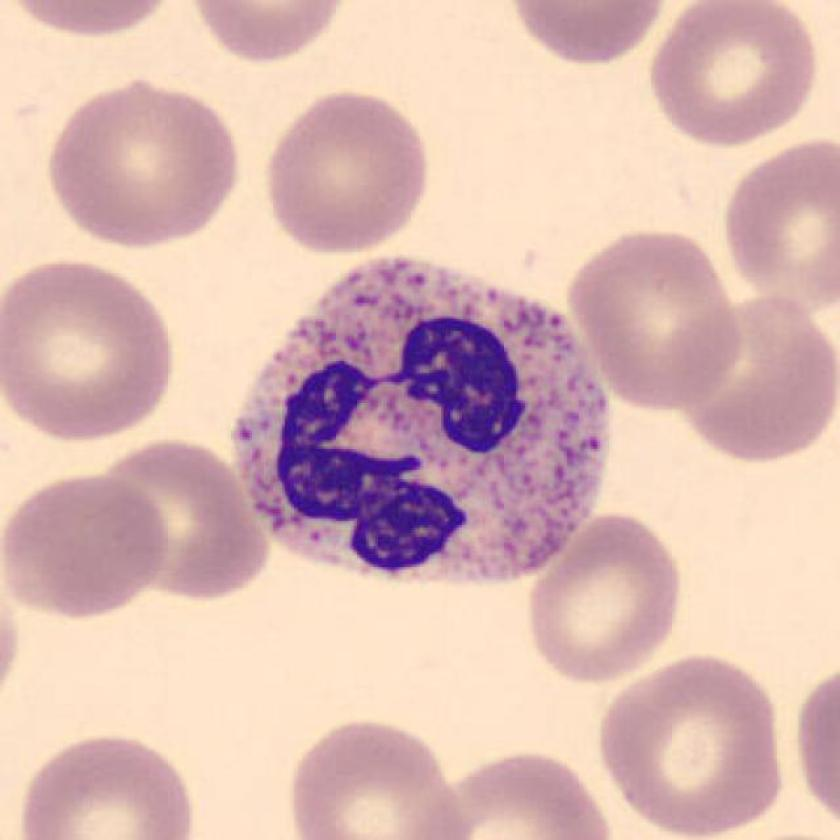neutrophil: (233, 257, 613, 586)
